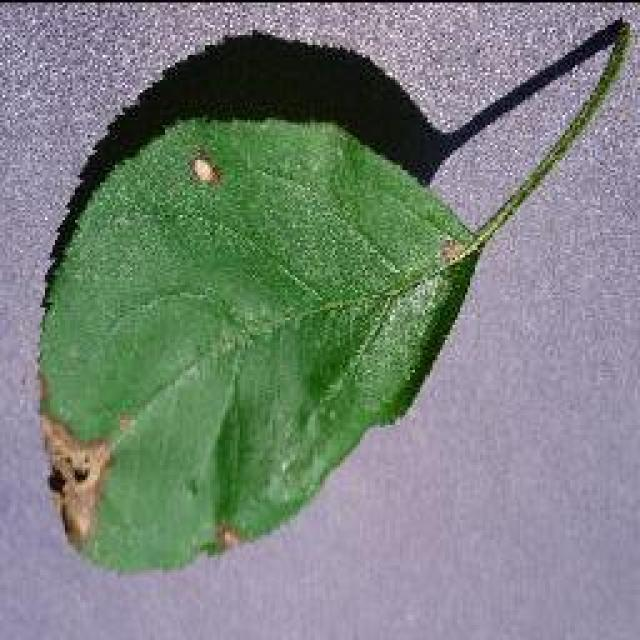apple healthy: (33, 15, 635, 575)
